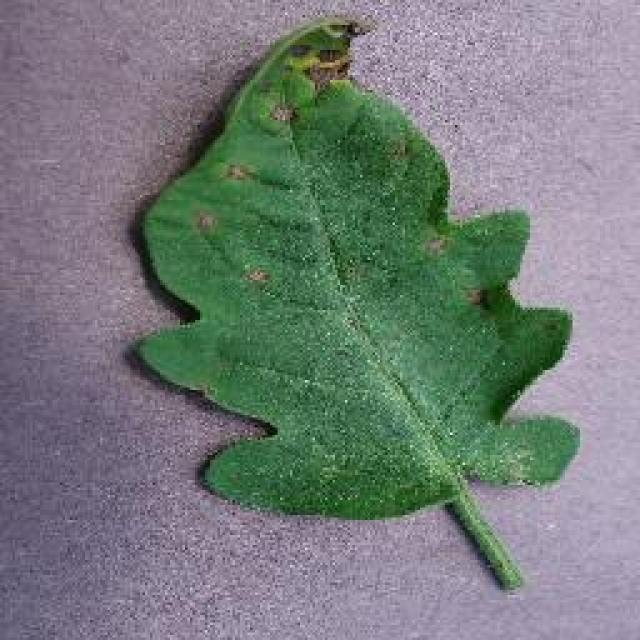Tomato Septoria spot leaf: (128, 11, 584, 518)
